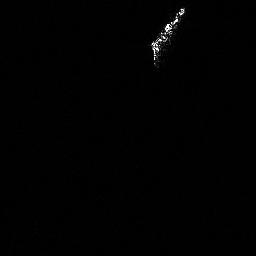ship: (149, 6, 187, 70)
